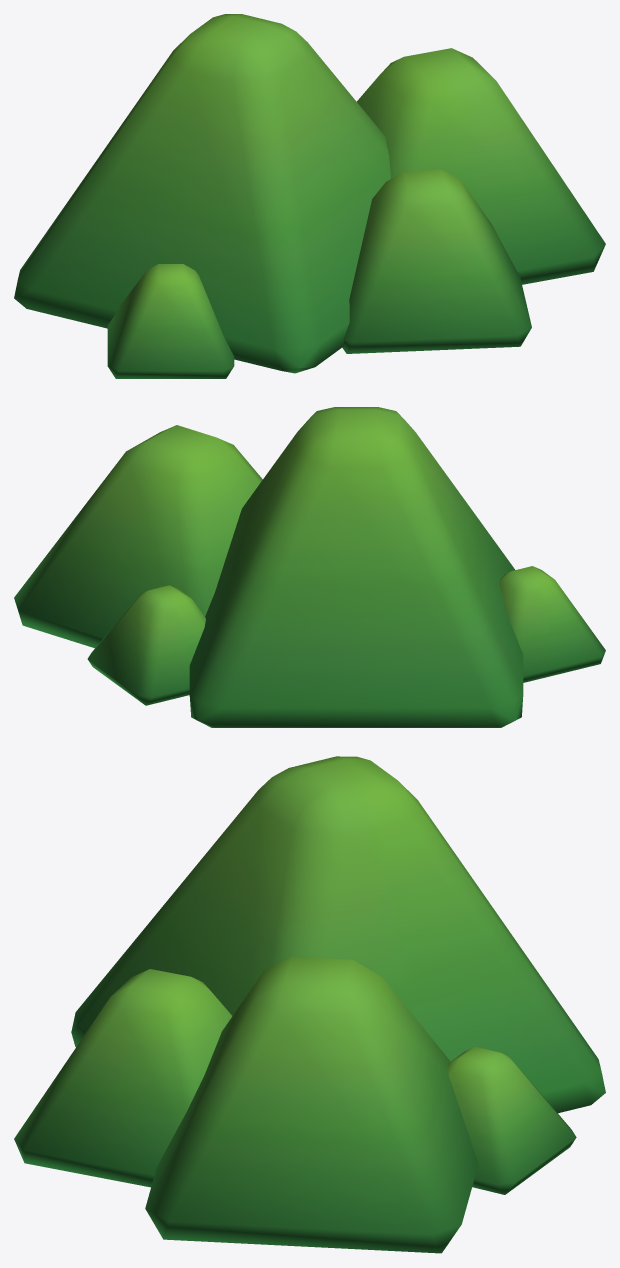
Rendered from forest_bush_4.glb.
3 renders of one model, top to bottom at view 1: azimuth 30°, elevation 25°; view 2: azimuth 150°, elevation 25°; view 3: azimuth 270°, elevation 25°, orthographic. The views are drawn at different scales.
Visible parts, largest first — view 1: Bush_4_E_Color1; view 2: Bush_4_E_Color1; view 3: Bush_4_E_Color1.
Boxes of the visible parts, x1=… form: Bush_4_E_Color1: x1=14, y1=14, x2=605, y2=378; Bush_4_E_Color1: x1=14, y1=407, x2=605, y2=727; Bush_4_E_Color1: x1=14, y1=756, x2=605, y2=1253.
Size of the model in its own units: 2.7 by 1.3 by 2.28.
Materials: 1 (1 with a texture image).
